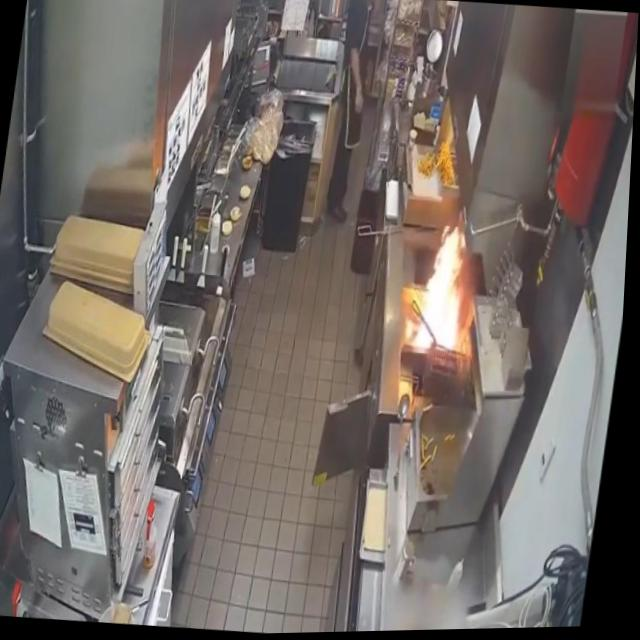fire: (410, 213, 485, 359)
